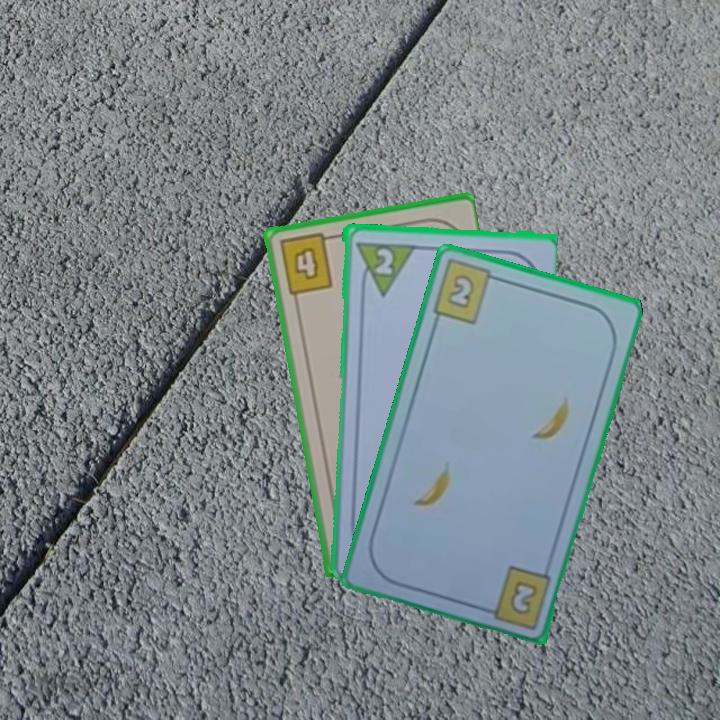2b: (428, 256, 505, 328), (506, 576, 540, 618)
2p: (371, 244, 396, 277)
4b: (275, 230, 338, 298)
